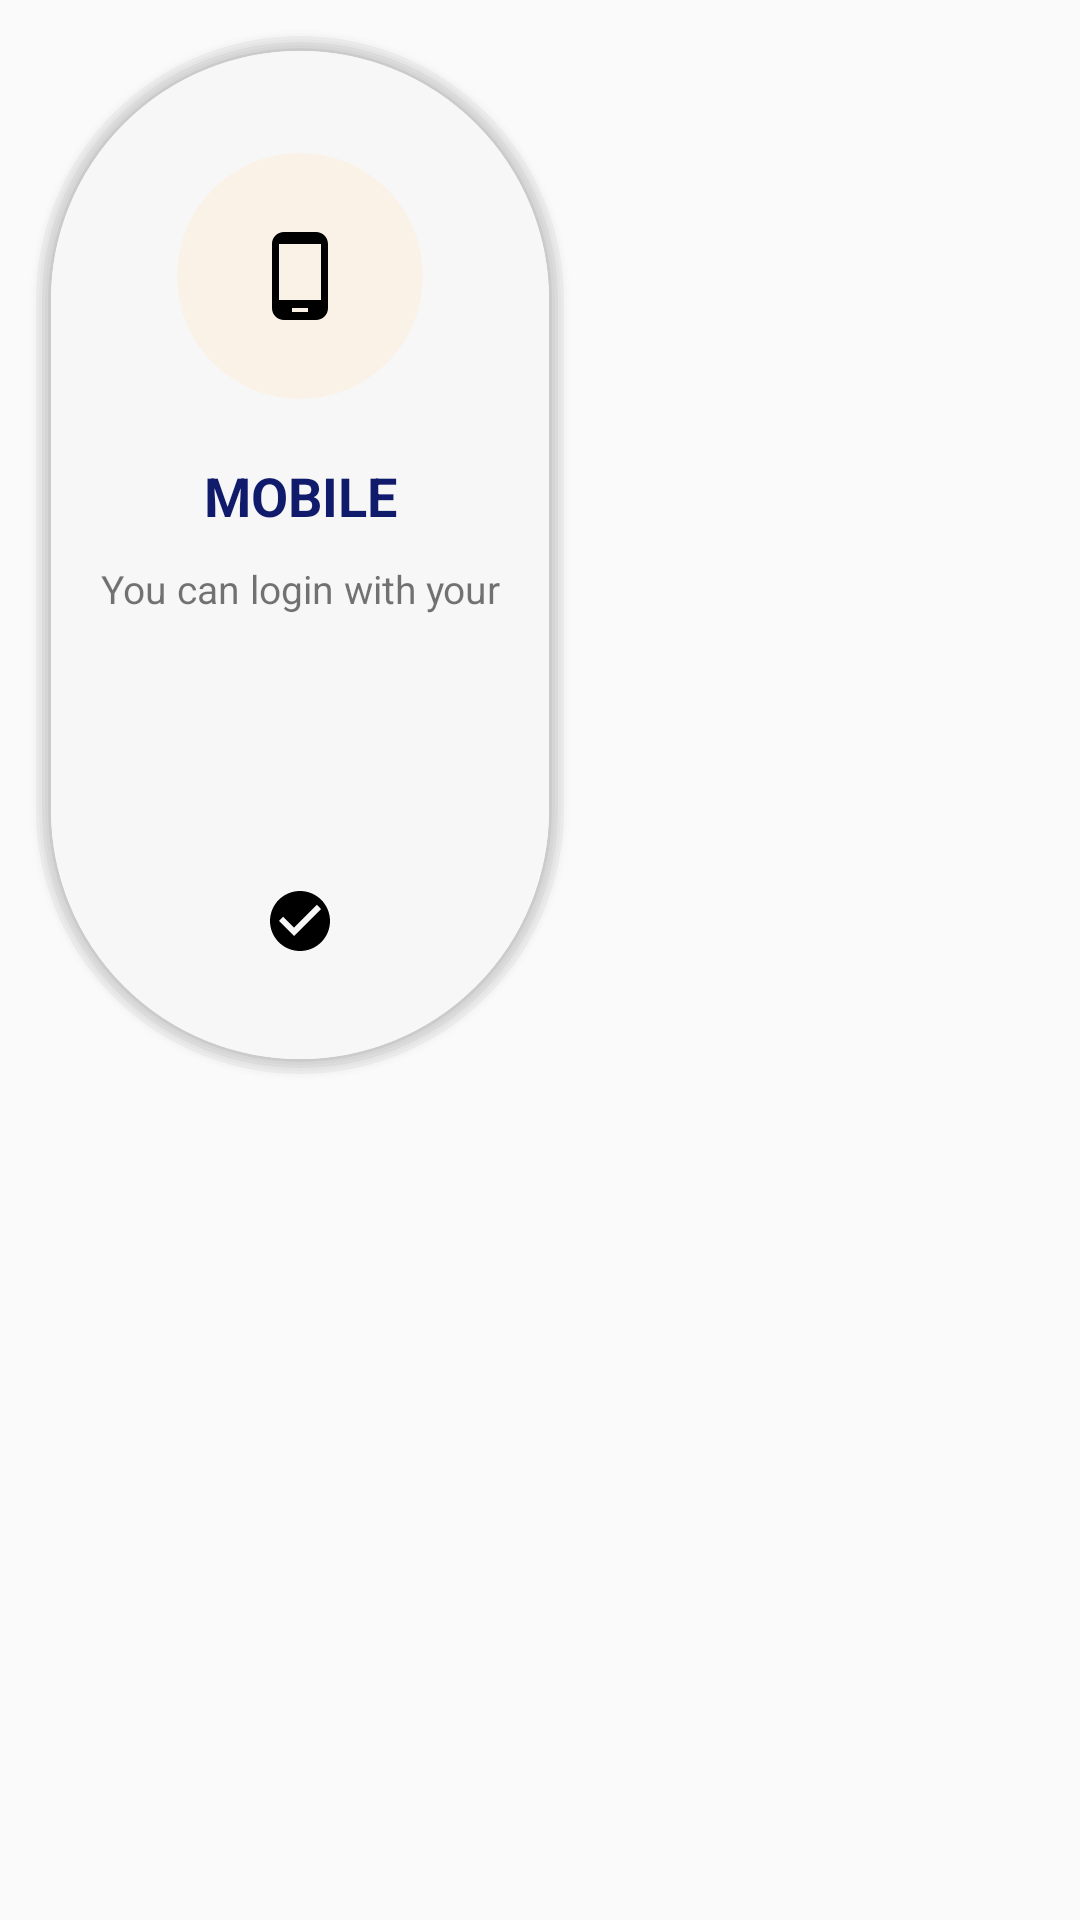

Where icons sit on this 1080w x 1920h app screen, as bbox(x1, y1, x2, y2):
check: bbox(270, 891, 330, 951)
phone: bbox(272, 232, 328, 320)
